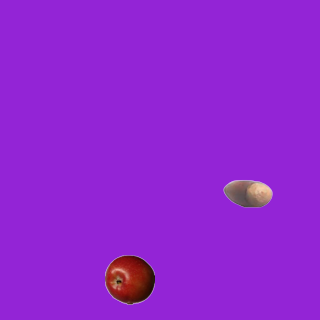Apple Braeburn: (104, 254, 154, 304)
Hazelnut: (222, 168, 272, 218)
